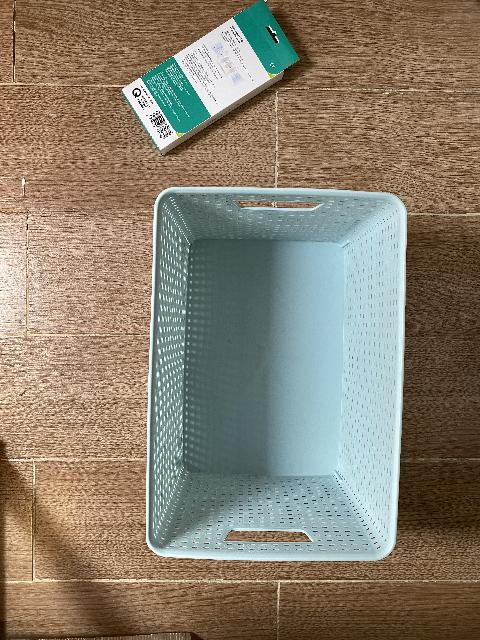4D_medical_face-mask: (121, 0, 300, 156)
cart: (145, 187, 408, 561)
